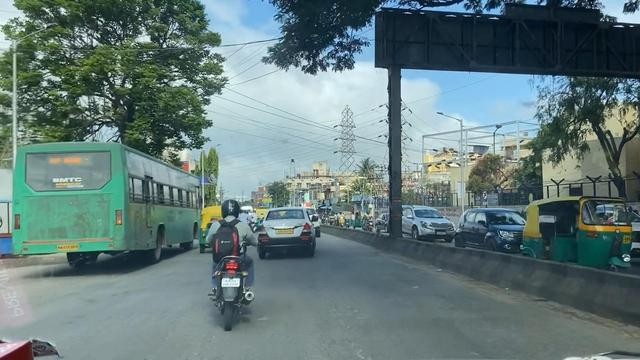HMV: (5, 144, 200, 255)
LMV: (208, 199, 256, 323), (255, 206, 316, 257)
